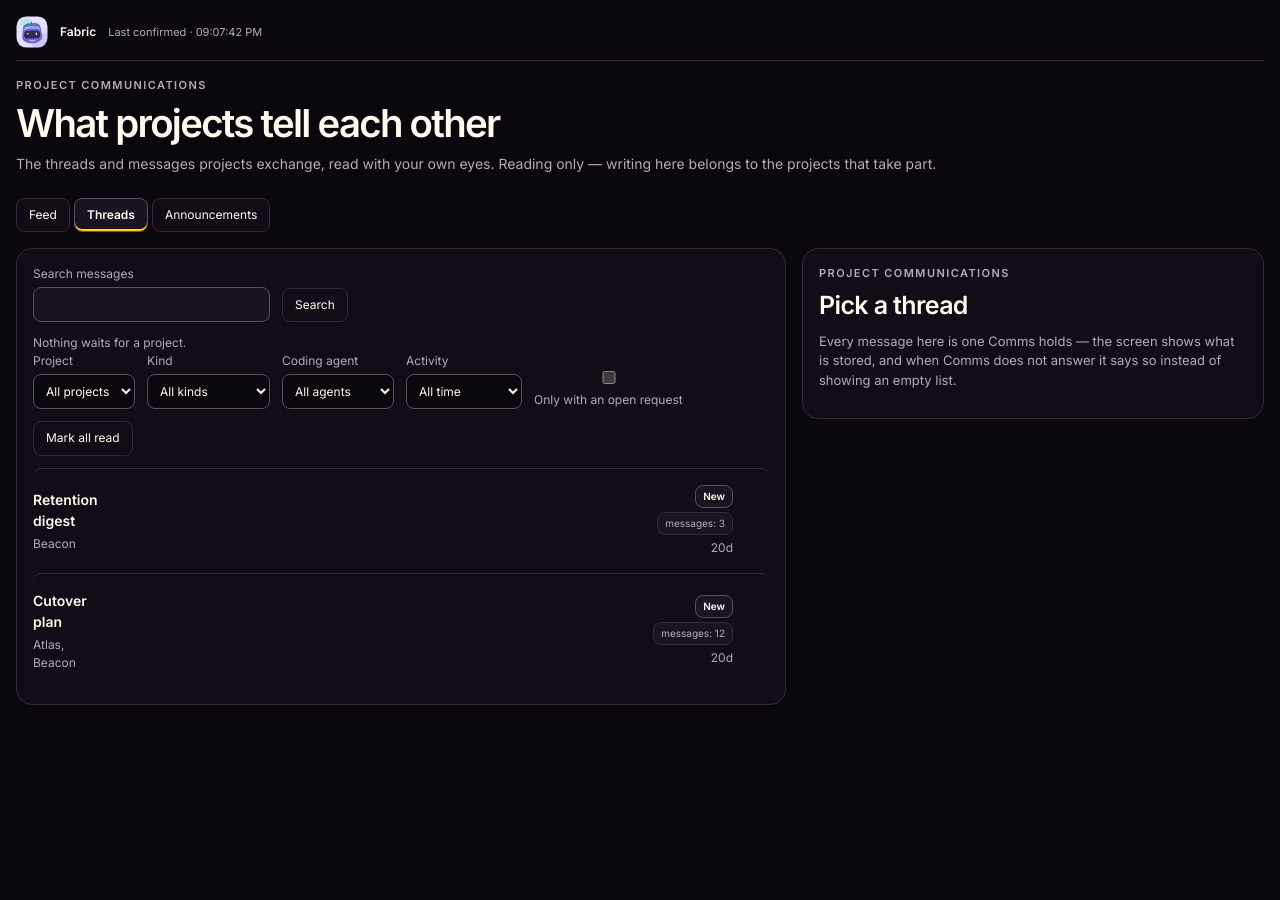
Test: the filters are reads the board answers › a matchless filter says so in words with a way back, from the board's answer, and clearing returns the full list
Expected: the text "Cutover plan" is shown, [33,590,57,632]
Select "announcement" in the dropdown labelled "Kind" at (208,392), box [147,374,270,409]
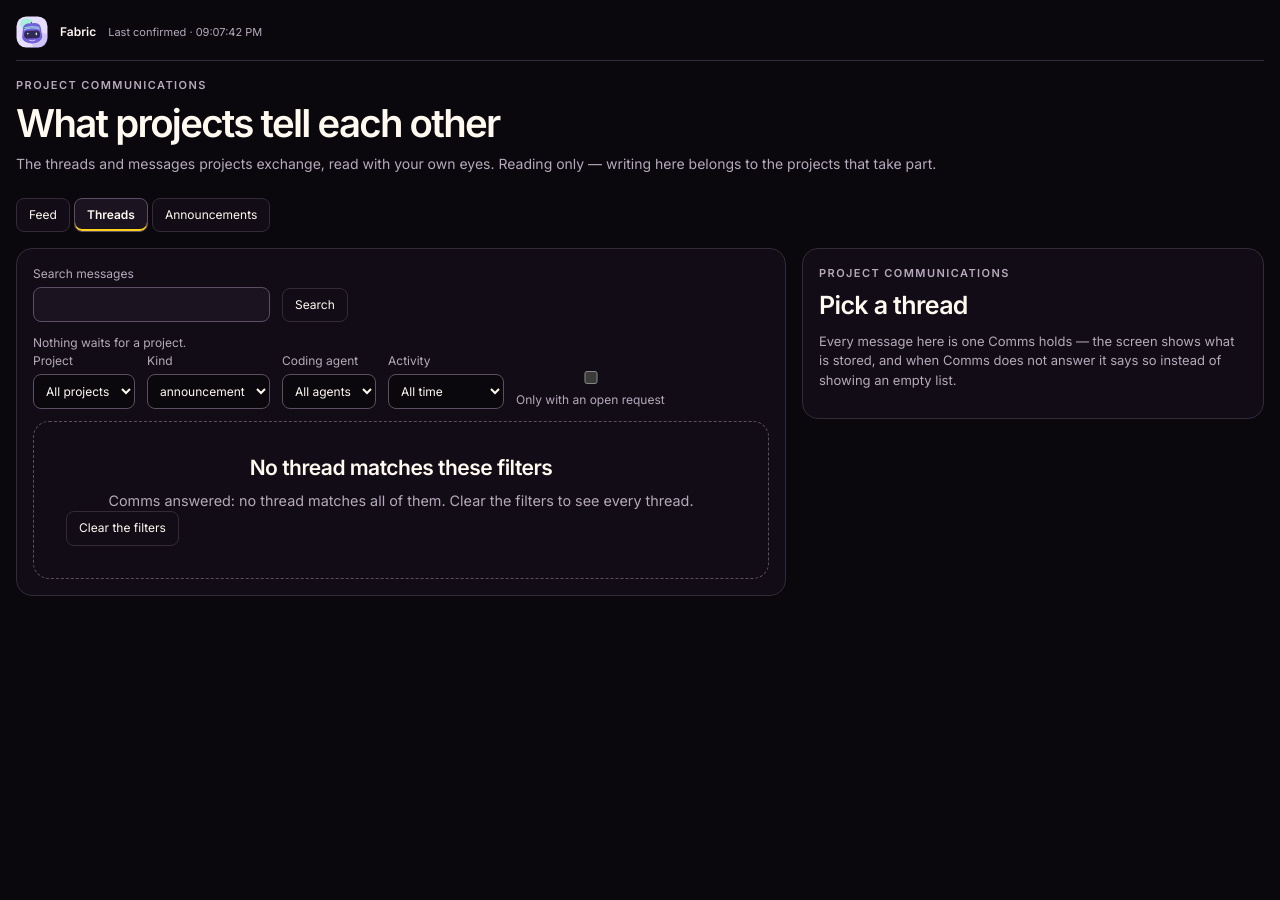
Now the heading "No thread matches these filters" is shown, box [250,455,552,480]
Click the button "Clear the filters".
click(122, 529)  # box [66,511,179,546]
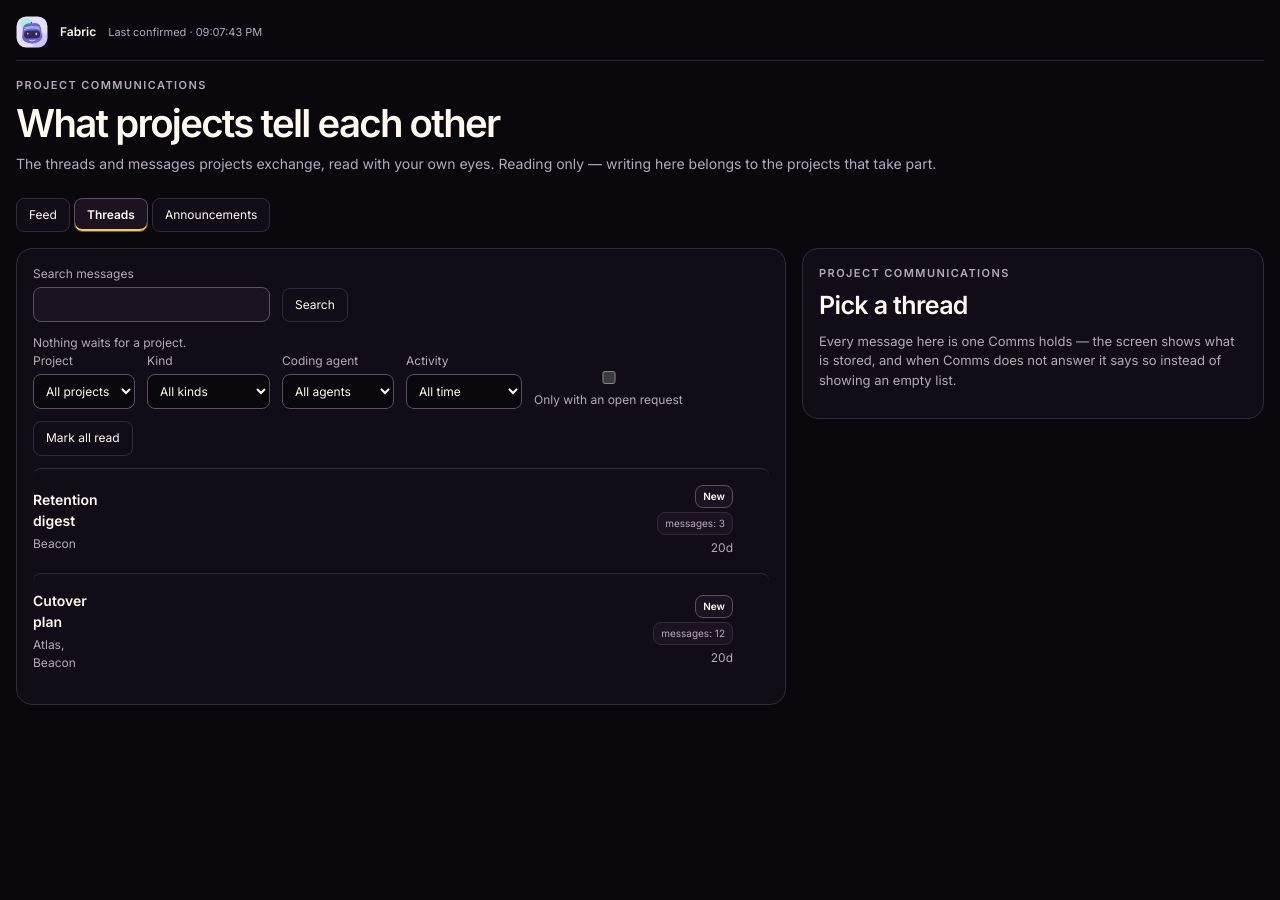
Now the text "Cutover plan" is shown, box [33,590,57,632]
Now the text "Retention digest" is shown, box [33,489,57,531]
